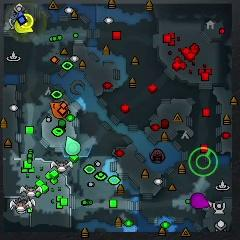Other: (21, 13, 33, 28)
p2: (65, 136, 80, 155)
p3: (190, 192, 210, 210)
p4: (14, 19, 35, 34)
p5: (49, 101, 69, 119)
